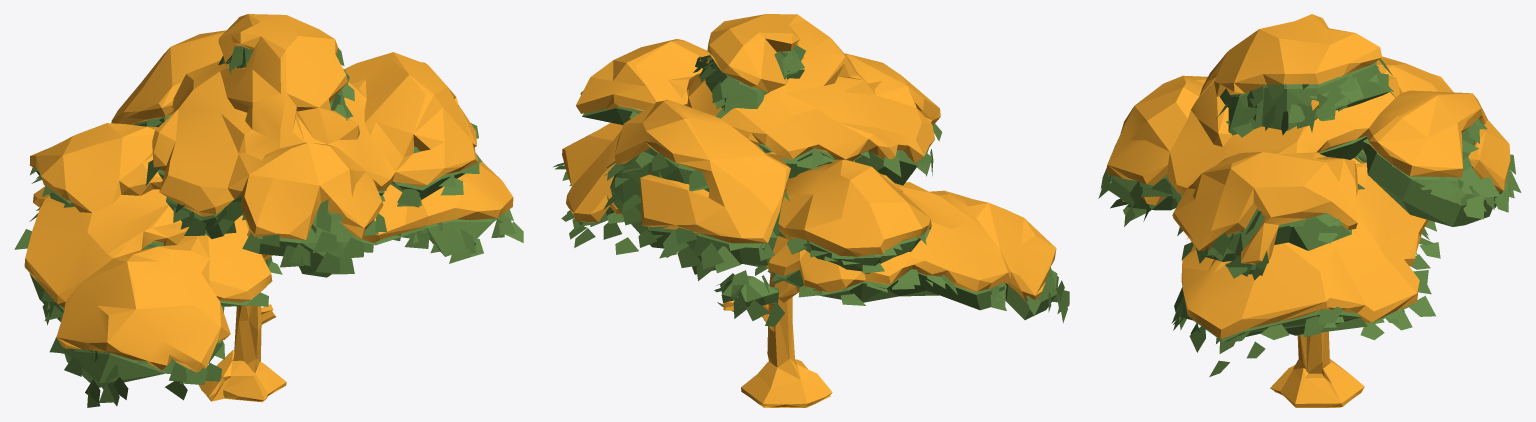
The model's file is SM_Tree_Oak_Mature_A_Snow.fbx.
The picture shows the model from 3 angles, left to right: view 1: azimuth 30°, elevation 25°; view 2: azimuth 150°, elevation 25°; view 3: azimuth 270°, elevation 25°; orthographic projection. The views are drawn at different scales.
Visible parts, largest first — view 1: tree-oak-mature-a-snow; view 2: tree-oak-mature-a-snow; view 3: tree-oak-mature-a-snow.
Part boxes in pixels (x1,y1,x2,y2): tree-oak-mature-a-snow: (14,14,523,407); tree-oak-mature-a-snow: (553,14,1069,407); tree-oak-mature-a-snow: (1098,14,1521,407).
Size of the model in its own units: 11.86 by 8.88 by 9.07.
